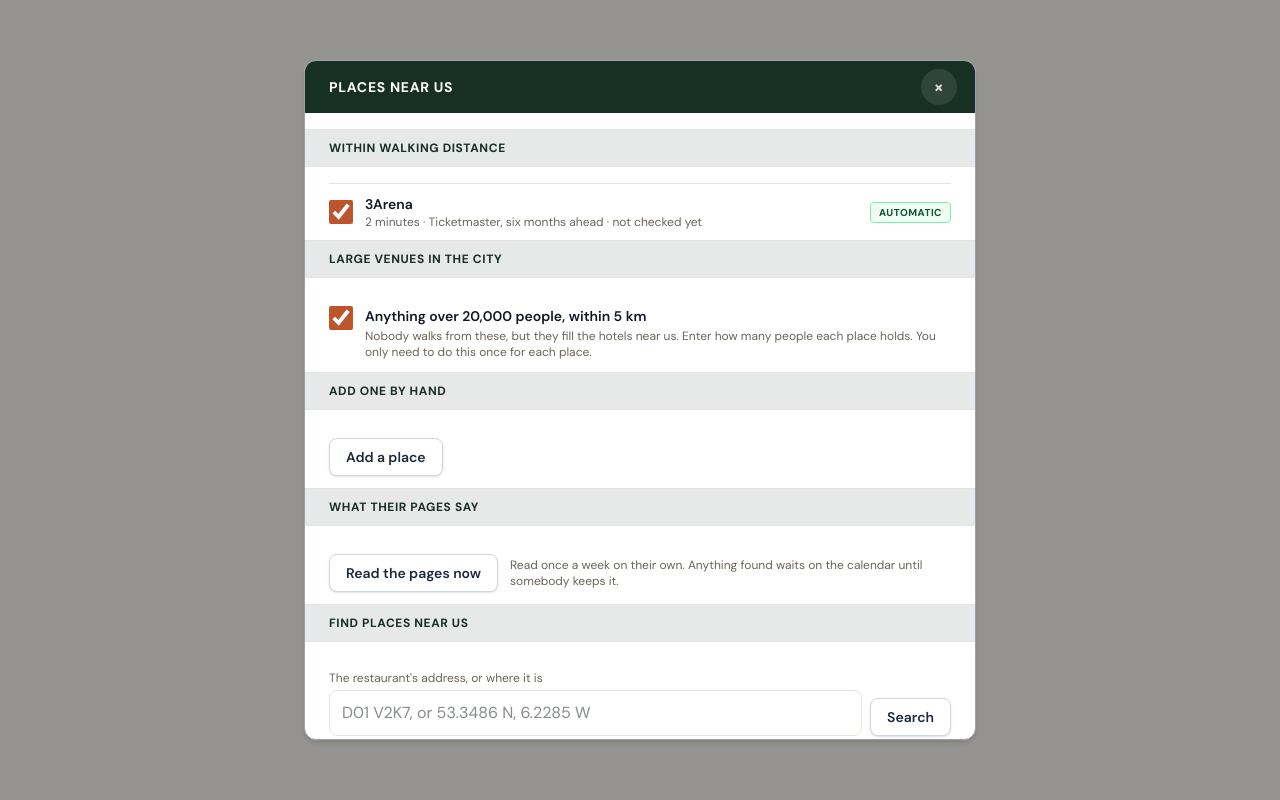
Test: taking a place off the list › keeps the place when the count of its listings could not be read
Click the button "3Arena": [612, 212] box [365,194,858,230]
(page scrolled)
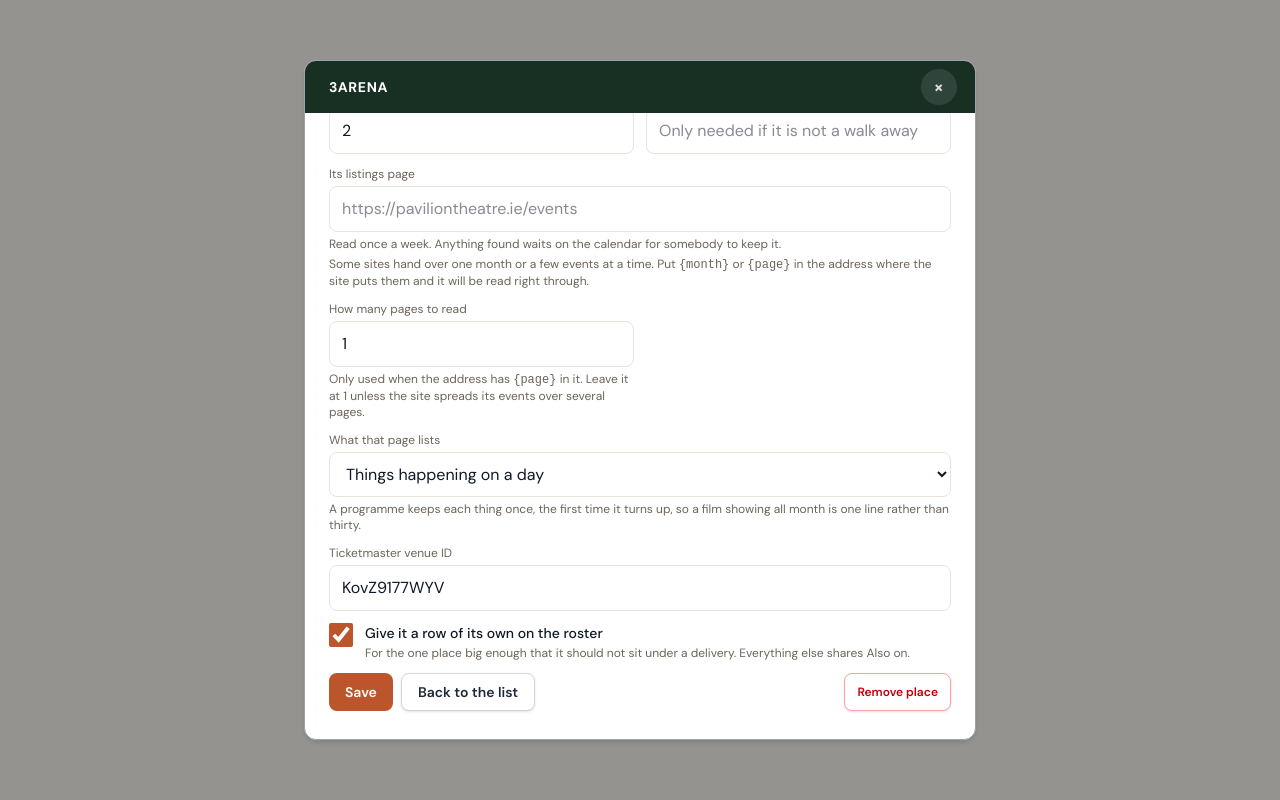
Click the button "Remove place": [898, 692] box [844,673,951,711]
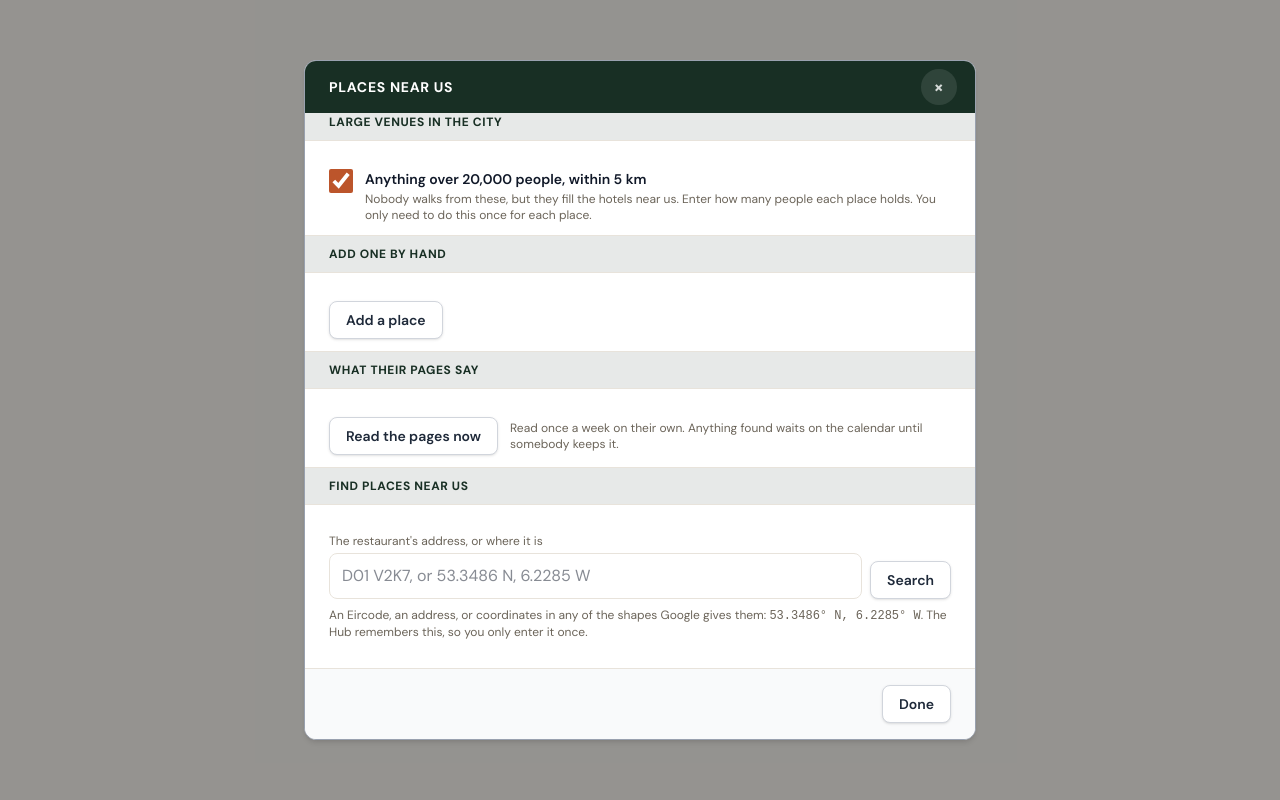
Expected: the text "Places near us" is shown, [329,77,453,97]
